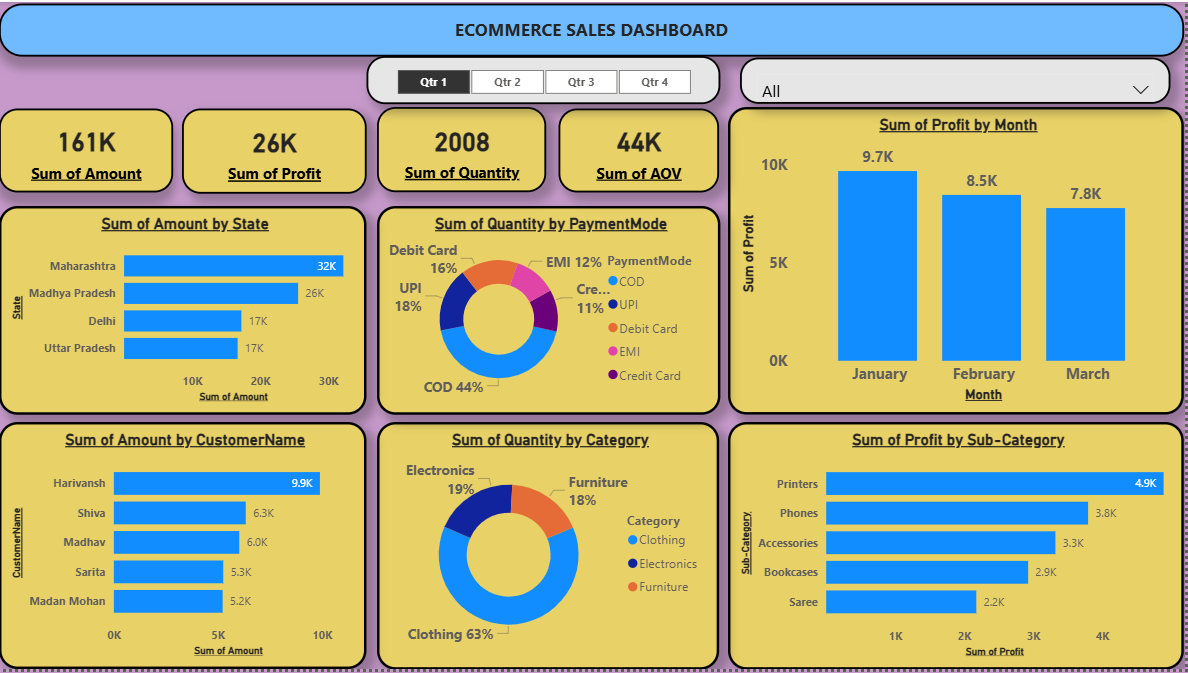

This screenshot's page, from the dashboard's own definition file:
{"tool":"powerbi","page":{"name":"Page 1","canvas":[1280,720],"ordinal":0},"visuals":[{"type":"textbox","box":[0,1.5,1279.5,57.5],"z":0},{"type":"columnChart","fields":{"Y":["Sum(Details (Power BI).Profit)"],"Category":["Orders.Order Date.Variation.Date Hierarchy.Month"]},"box":[786.9,113.3,492.2,331.9],"z":1000},{"type":"barChart","fields":{"Category":["Details (Power BI).Sub-Category"],"Y":["Sum(Details (Power BI).Profit)"]},"box":[786.9,453.4,492.2,267.2],"z":2000},{"type":"donutChart","fields":{"Category":["Details (Power BI).Category"],"Y":["Sum(Details (Power BI).Quantity)"]},"box":[408,453.4,369.2,267.2],"z":3000},{"type":"donutChart","fields":{"Category":["Details (Power BI).PaymentMode"],"Y":["Sum(Details (Power BI).Quantity)"]},"box":[408,220.2,370.8,225.1],"z":4000},{"type":"card","fields":{"Values":["Sum(Details (Power BI).Amount)"]},"box":[0,115,187.8,90.7],"z":5000},{"type":"card","fields":{"Values":["Sum(Details (Power BI).Profit)"]},"box":[197.5,115,199.2,92.3],"z":6000},{"type":"card","fields":{"Values":["Sum(Details (Power BI).Quantity)"]},"box":[408,113.3,183,92.3],"z":7000},{"type":"card","fields":{"Values":["Sum(Details (Power BI).AOV)"]},"box":[604,115,173.3,90.7],"z":8000},{"type":"barChart","fields":{"Category":["Orders.State"],"Y":["Sum(Details (Power BI).Amount)"]},"box":[0,220.2,396.7,225.1],"z":9000},{"type":"barChart","fields":{"Category":["Orders.CustomerName"],"Y":["Sum(Details (Power BI).Amount)"]},"box":[0,453.5,396.7,266.5],"z":10000},{"type":"slicer","fields":{"Values":["Orders.Order Date.Variation.Date Hierarchy.Quarter"]},"box":[396.7,58.3,382.1,51.8],"z":11000},{"type":"slicer","fields":{"Values":["Orders.State"]},"box":[799.5,60.6,464.9,50],"z":12000}]}

Visuals, with their boxes in screenshot pixels (x1, y1, x2, y2), scaled from the page's 1280x720 canvas onto the 1188x673 screenshot:
textbox: {"left": 0, "top": 1, "right": 1187, "bottom": 55}
columnChart - Sum(Details (Power BI).Profit) x Orders.Order Date.Variation.Date Hierarchy.Month: {"left": 730, "top": 106, "right": 1187, "bottom": 416}
barChart - Details (Power BI).Sub-Category x Sum(Details (Power BI).Profit): {"left": 730, "top": 424, "right": 1187, "bottom": 672}
donutChart - Details (Power BI).Category x Sum(Details (Power BI).Quantity): {"left": 379, "top": 424, "right": 721, "bottom": 672}
donutChart - Details (Power BI).PaymentMode x Sum(Details (Power BI).Quantity): {"left": 379, "top": 206, "right": 723, "bottom": 416}
card - Sum(Details (Power BI).Amount): {"left": 0, "top": 107, "right": 174, "bottom": 192}
card - Sum(Details (Power BI).Profit): {"left": 183, "top": 107, "right": 368, "bottom": 194}
card - Sum(Details (Power BI).Quantity): {"left": 379, "top": 106, "right": 549, "bottom": 192}
card - Sum(Details (Power BI).AOV): {"left": 561, "top": 107, "right": 721, "bottom": 192}
barChart - Orders.State x Sum(Details (Power BI).Amount): {"left": 0, "top": 206, "right": 368, "bottom": 416}
barChart - Orders.CustomerName x Sum(Details (Power BI).Amount): {"left": 0, "top": 424, "right": 368, "bottom": 672}
slicer - Orders.Order Date.Variation.Date Hierarchy.Quarter: {"left": 368, "top": 54, "right": 723, "bottom": 103}
slicer - Orders.State: {"left": 742, "top": 57, "right": 1174, "bottom": 103}
